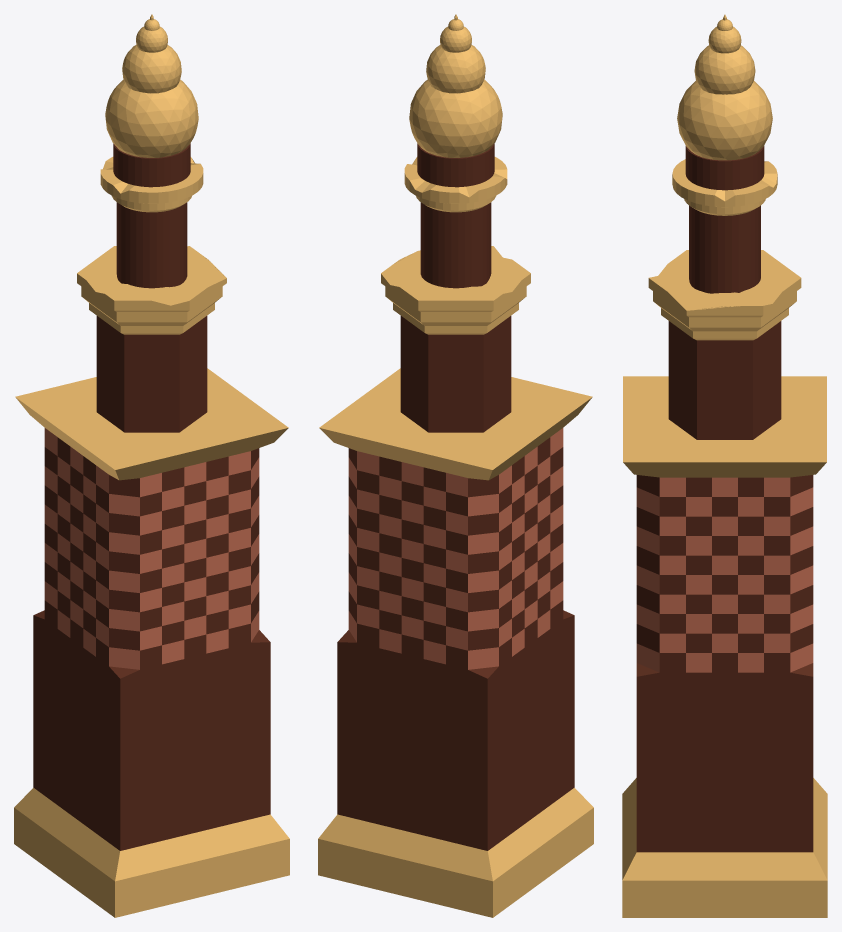
The model's file is Minaret.fbx.
3 views of the same model, side by side, from view 1: azimuth 30°, elevation 25°; view 2: azimuth 150°, elevation 25°; view 3: azimuth 270°, elevation 25° (orthographic).
Visible parts, largest first — view 1: Icosphere.001; view 2: Icosphere.001; view 3: Icosphere.001.
Part boxes in pixels (left/top/right/bottom): Icosphere.001: left=14, top=14, right=289, bottom=917; Icosphere.001: left=318, top=14, right=593, bottom=917; Icosphere.001: left=622, top=14, right=827, bottom=917.
Bounding box in the file's own units: 200 × 925 × 200.
